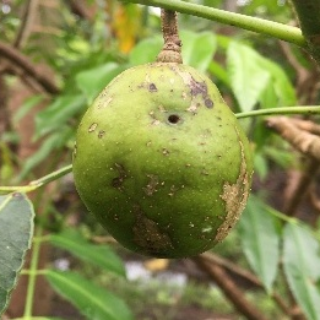coc: (70, 62, 252, 257)
